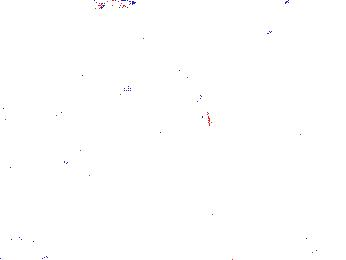glassfish: (168, 66, 215, 134)
red belly glassfish: (55, 49, 77, 61)
redtail glassfish: (114, 43, 146, 76), (97, 1, 137, 12)
siberian prawn: (39, 212, 111, 260)
